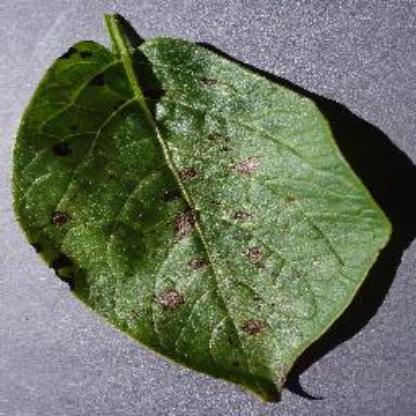Early-Blight: (12, 13, 392, 406)
